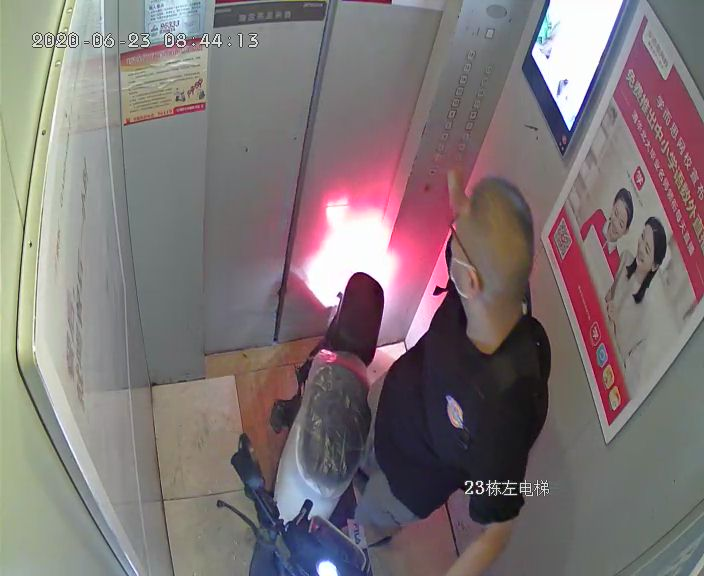Electric-bicycle: (226, 271, 391, 575)
